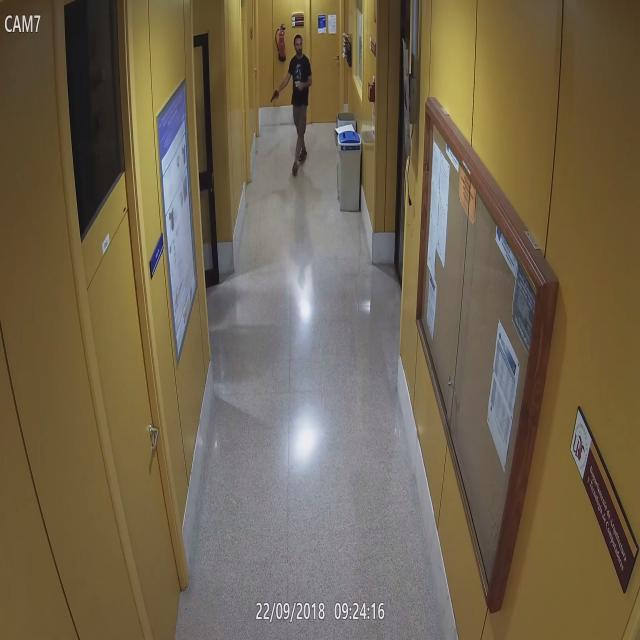Gun: (270, 88, 280, 104)
